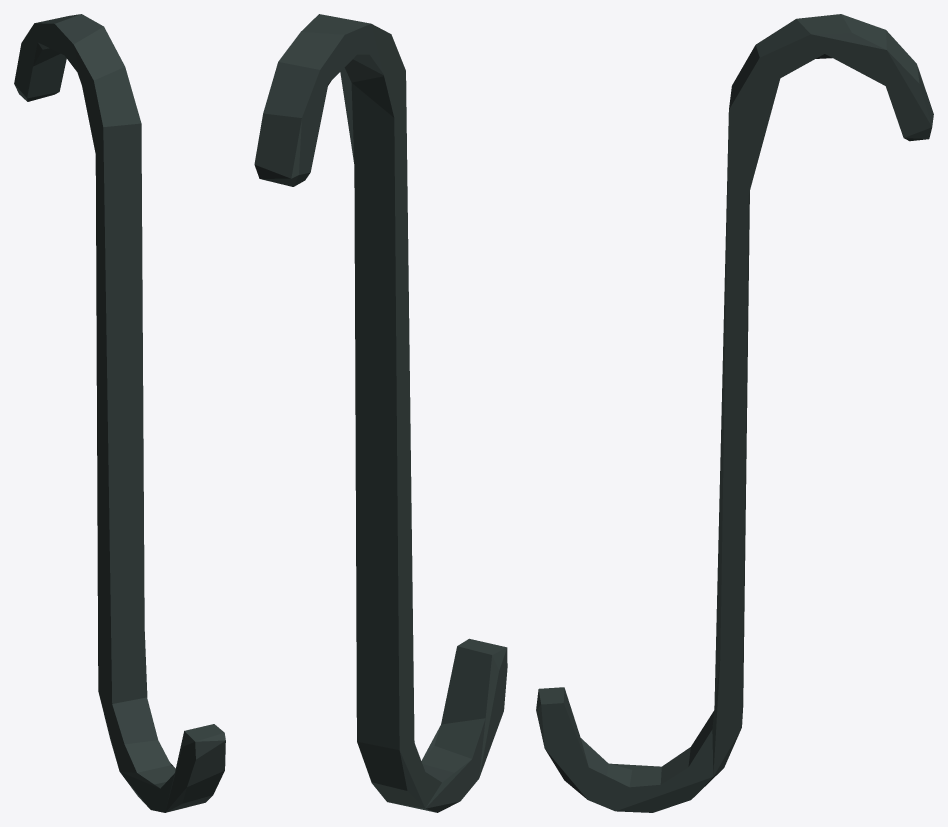
The model's file is HookMetal.fbx.
The picture shows the model from 3 angles, left to right: view 1: azimuth 30°, elevation 25°; view 2: azimuth 150°, elevation 25°; view 3: azimuth 270°, elevation 25°; orthographic projection. The views are drawn at different scales.
Parts seen in each view (by area): view 1: HookMetalLowPoly; view 2: HookMetalLowPoly; view 3: HookMetalLowPoly.
Part boxes in pixels (x1,y1,x2,y2): HookMetalLowPoly: (14,14,225,812); HookMetalLowPoly: (254,14,507,812); HookMetalLowPoly: (536,14,933,812).
Size of the model in its own units: 0.5473 by 9.97 by 4.6.
